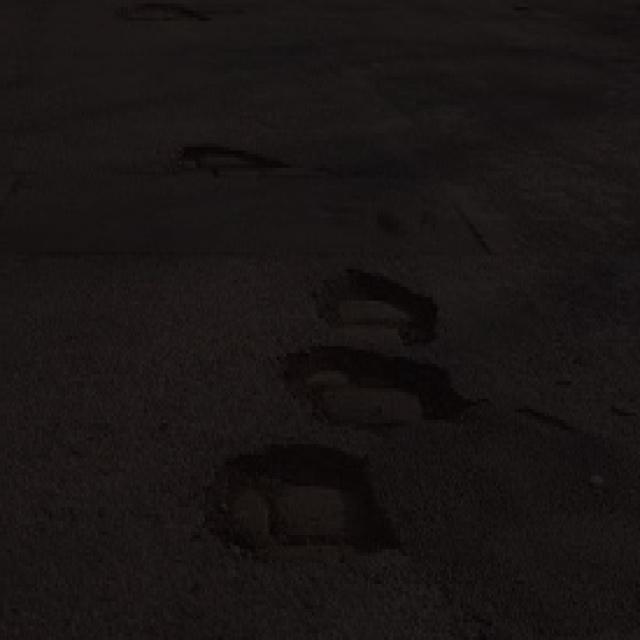Pothole: (202, 433, 405, 573), (260, 333, 475, 451), (314, 258, 442, 350), (178, 132, 310, 188), (116, 0, 217, 26)
